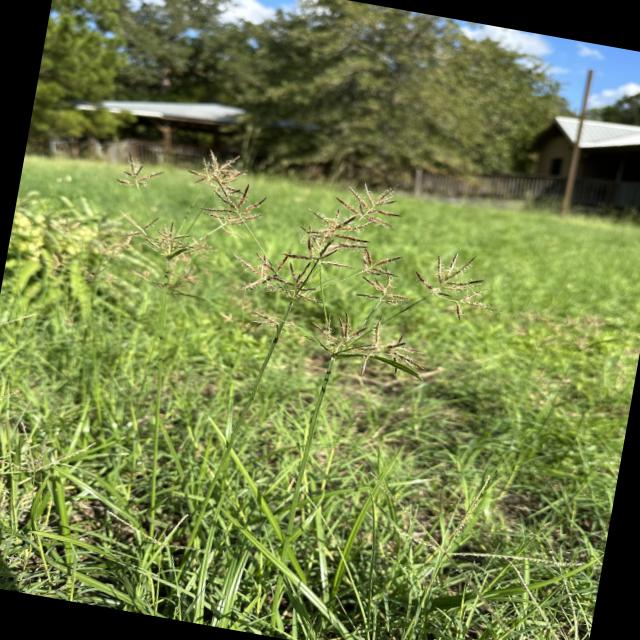cyperus: (175, 146, 383, 352), (229, 156, 414, 326), (313, 226, 489, 394), (92, 138, 228, 296), (17, 202, 134, 296), (186, 146, 284, 242), (506, 301, 606, 386)
